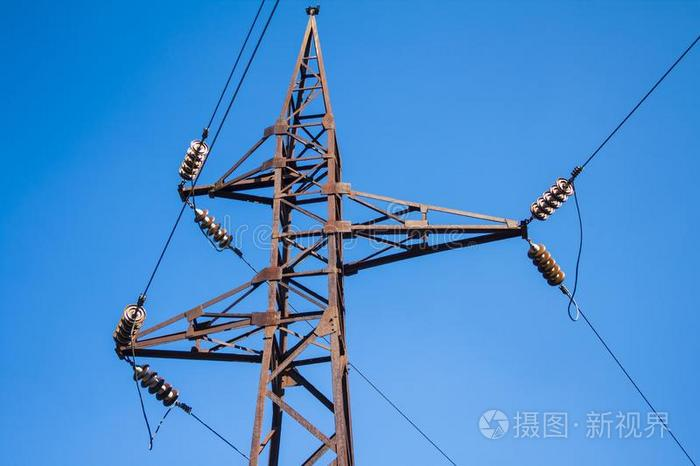insulator: (131, 363, 180, 407), (532, 177, 572, 222), (525, 245, 565, 286), (193, 208, 235, 246), (113, 304, 147, 345), (177, 137, 208, 181)
